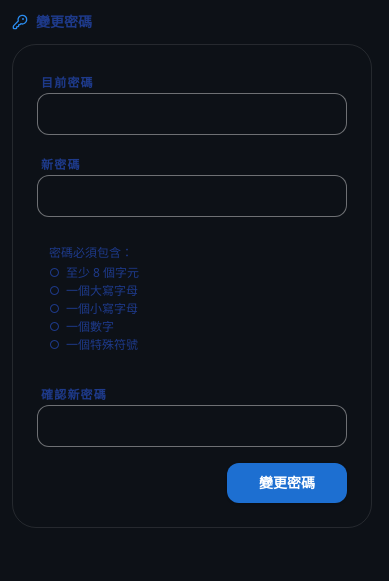
Test: ChangePassword（自助修改密碼） › 其他 403（例如權限）不說成密碼錯誤
The width and height of the screenshot is (389, 581).
In the password field labelled "目前密碼": coordinates (192, 114) [37,93,347,135], type "oldpass"
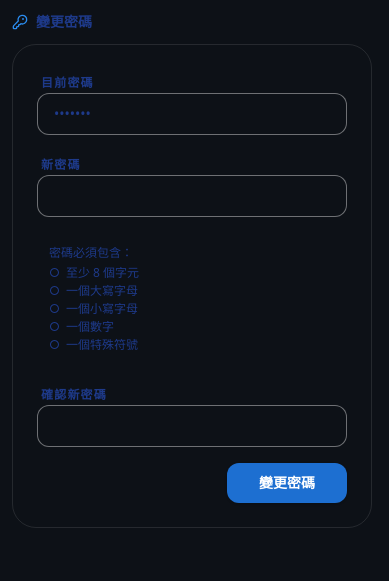
In the password field labelled "新密碼": coordinates (192, 196) [37,175,347,217], type "NewPass1!"
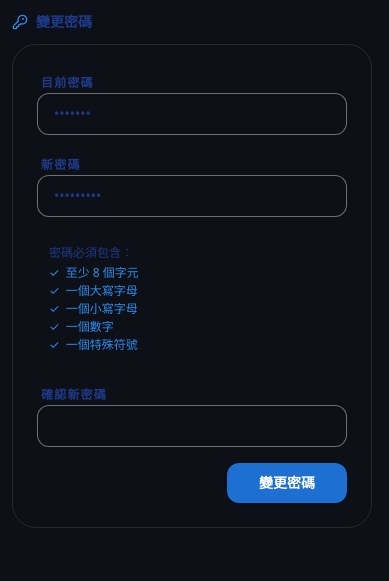
In the password field labelled "確認新密碼": coordinates (192, 426) [37,405,347,447], type "NewPass1!"
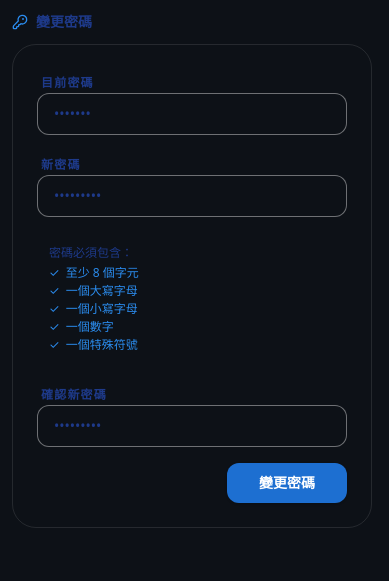
Click the button "變更密碼": coordinates (287, 483) [227,463,347,503]
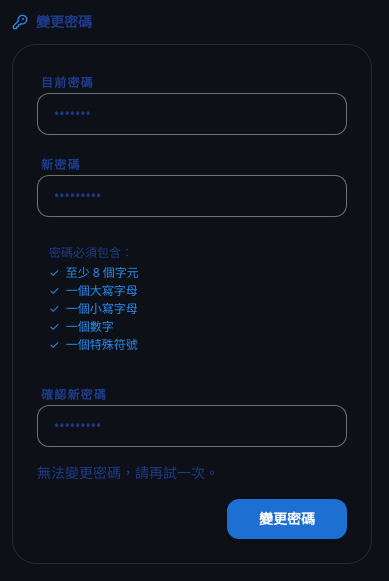
Expected: the text "無法變更密碼，請再試一次。" is shown, [37,463,219,482]
